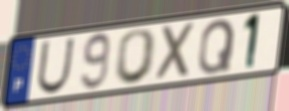1: (240, 11, 263, 73)
9: (77, 29, 112, 94)
O: (112, 27, 160, 87)
Q: (196, 17, 238, 77)
U: (35, 36, 77, 97)
X: (155, 19, 199, 84)
